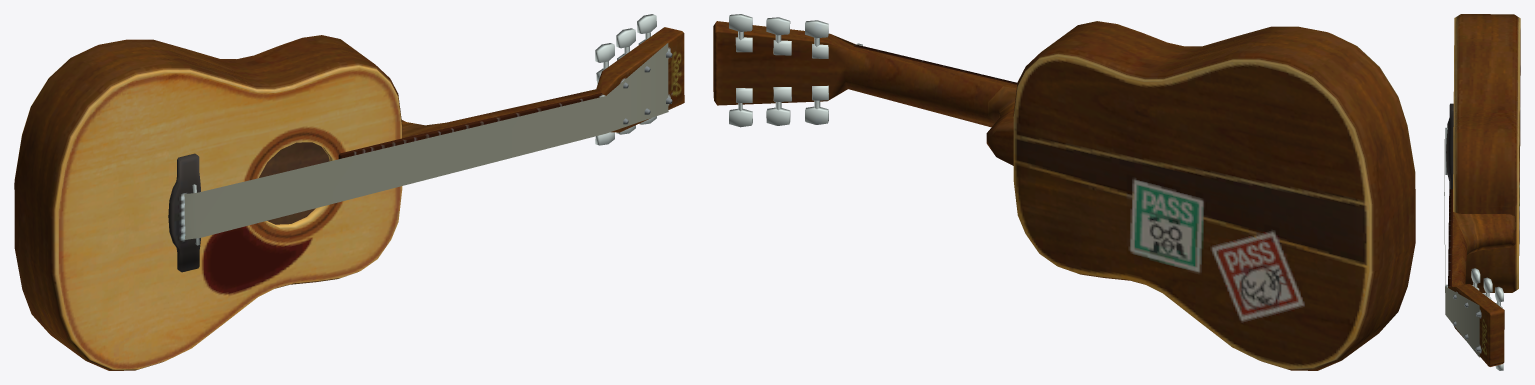
File: ToolGuiterTkk.glb
3 renders of one model, left to right at view 1: azimuth 30°, elevation 25°; view 2: azimuth 150°, elevation 25°; view 3: azimuth 270°, elevation 25°, orthographic. The views are drawn at different scales.
Visible parts, largest first — view 1: Neck__mTool, chord__mToolAlphaBlend; view 2: Neck__mTool; view 3: Neck__mTool, chord__mToolAlphaBlend.
Part boxes in pixels (left/top/right/bottom): Neck__mTool: left=14, top=14, right=684, bottom=370; chord__mToolAlphaBlend: left=184, top=43, right=668, bottom=239; Neck__mTool: left=713, top=14, right=1415, bottom=370; Neck__mTool: left=1445, top=14, right=1520, bottom=370; chord__mToolAlphaBlend: left=1444, top=139, right=1479, bottom=357.
Bounding box in the file's own units: 10.92 × 4.78 × 1.47.
Materials: 2 (2 with a texture image).
